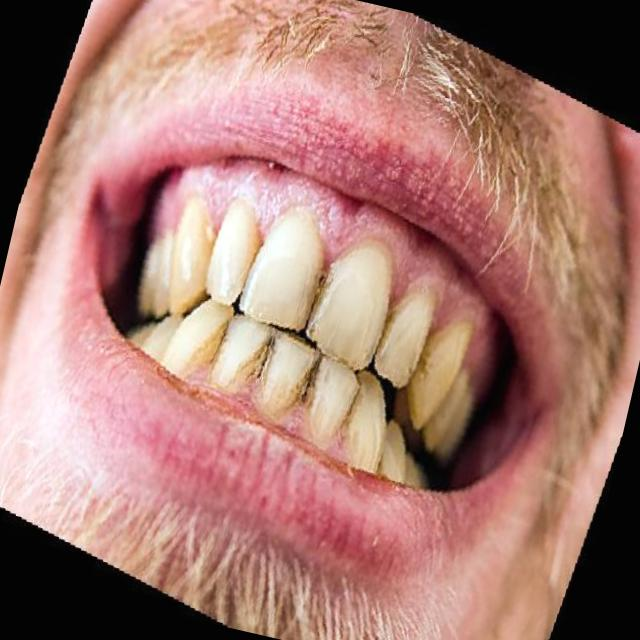calculus: (171, 295, 237, 385), (231, 319, 282, 401)
